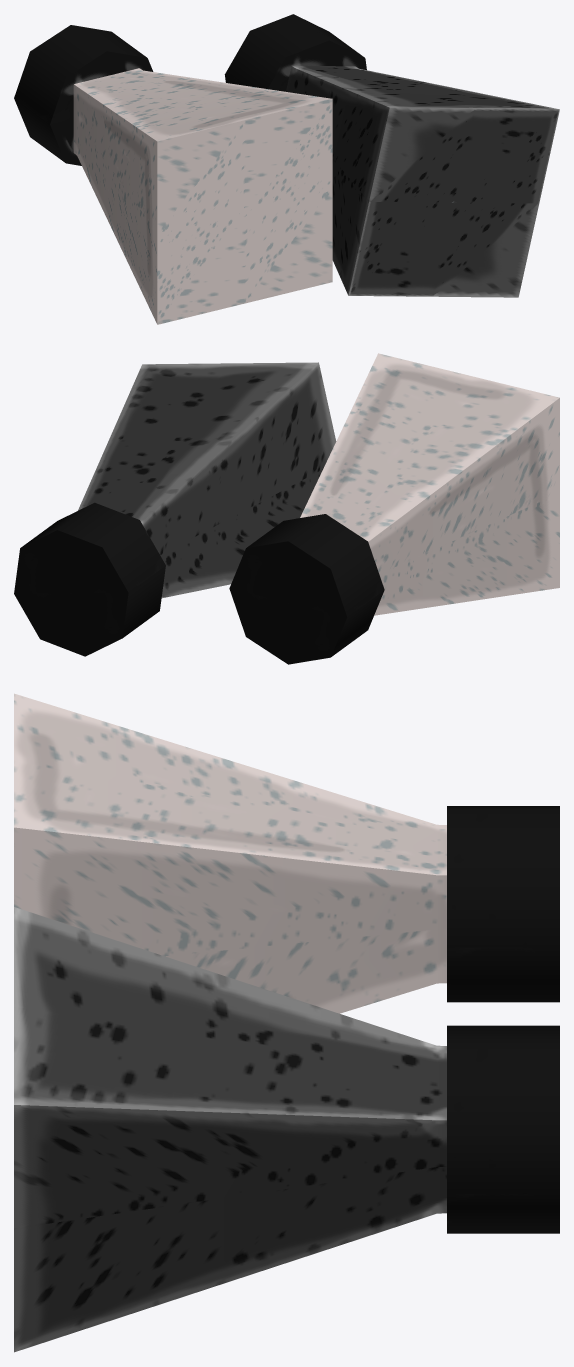
File: saltAndPepper.fbx
3 renders of one model, top to bottom at view 1: azimuth 30°, elevation 25°; view 2: azimuth 150°, elevation 25°; view 3: azimuth 270°, elevation 25°, orthographic. The views are drawn at different scales.
Parts seen in each view (by area): view 1: Cube.006; view 2: Cube.006; view 3: Cube.006.
Boxes of the visible parts, x1,y1,x2,y2 form: Cube.006: (14, 14, 559, 324); Cube.006: (14, 353, 559, 664); Cube.006: (14, 693, 559, 1352).
Bounding box in the file's own units: 16.53 × 9.58 × 12.39.
